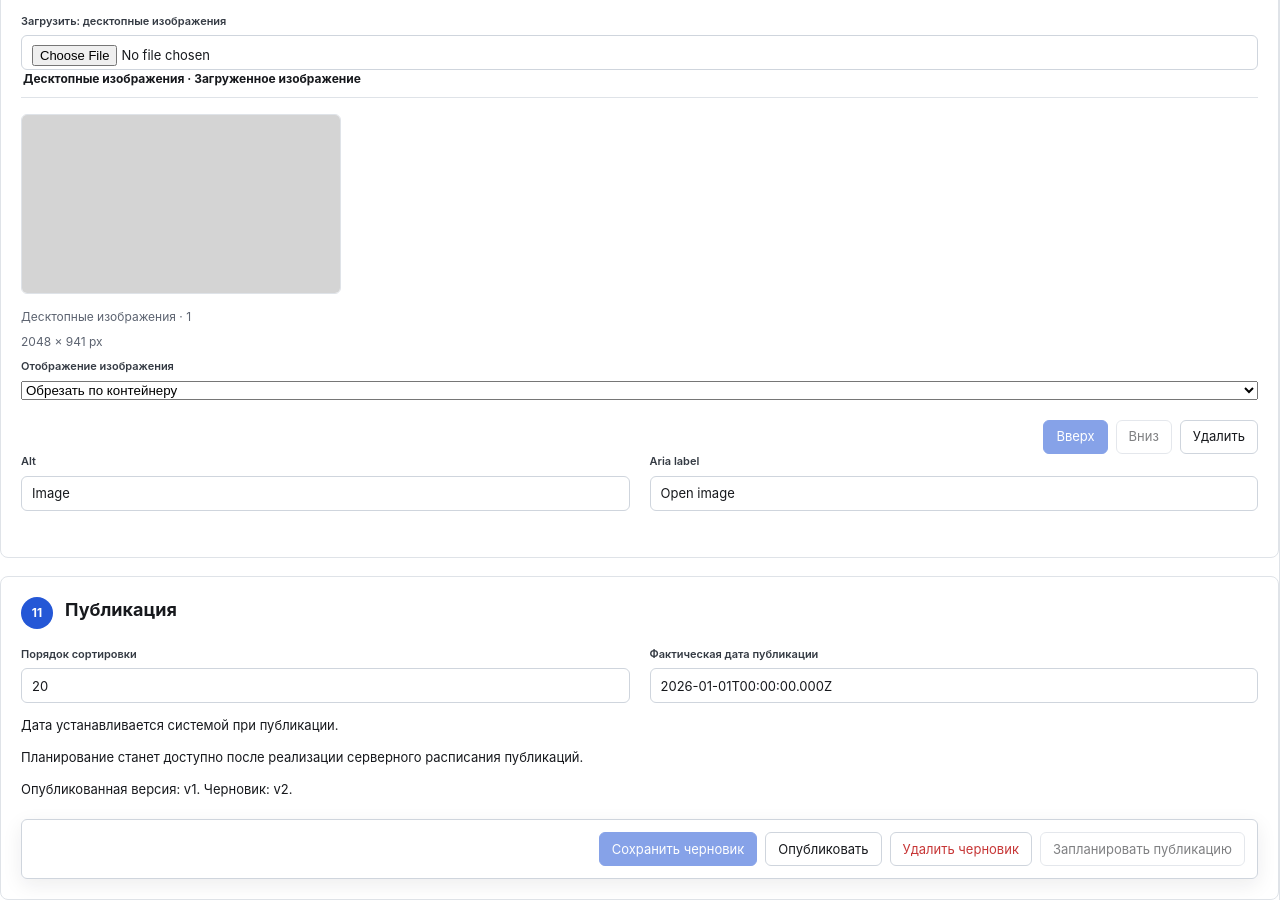
Test case: ProjectInspector media corrective QA › connects each invalid URL to its own unique accessible error
The image size is (1280, 900).
(page scrolled)
Click the button "Опубликовать" at (823, 849), box [765, 832, 882, 866]
(page scrolled)
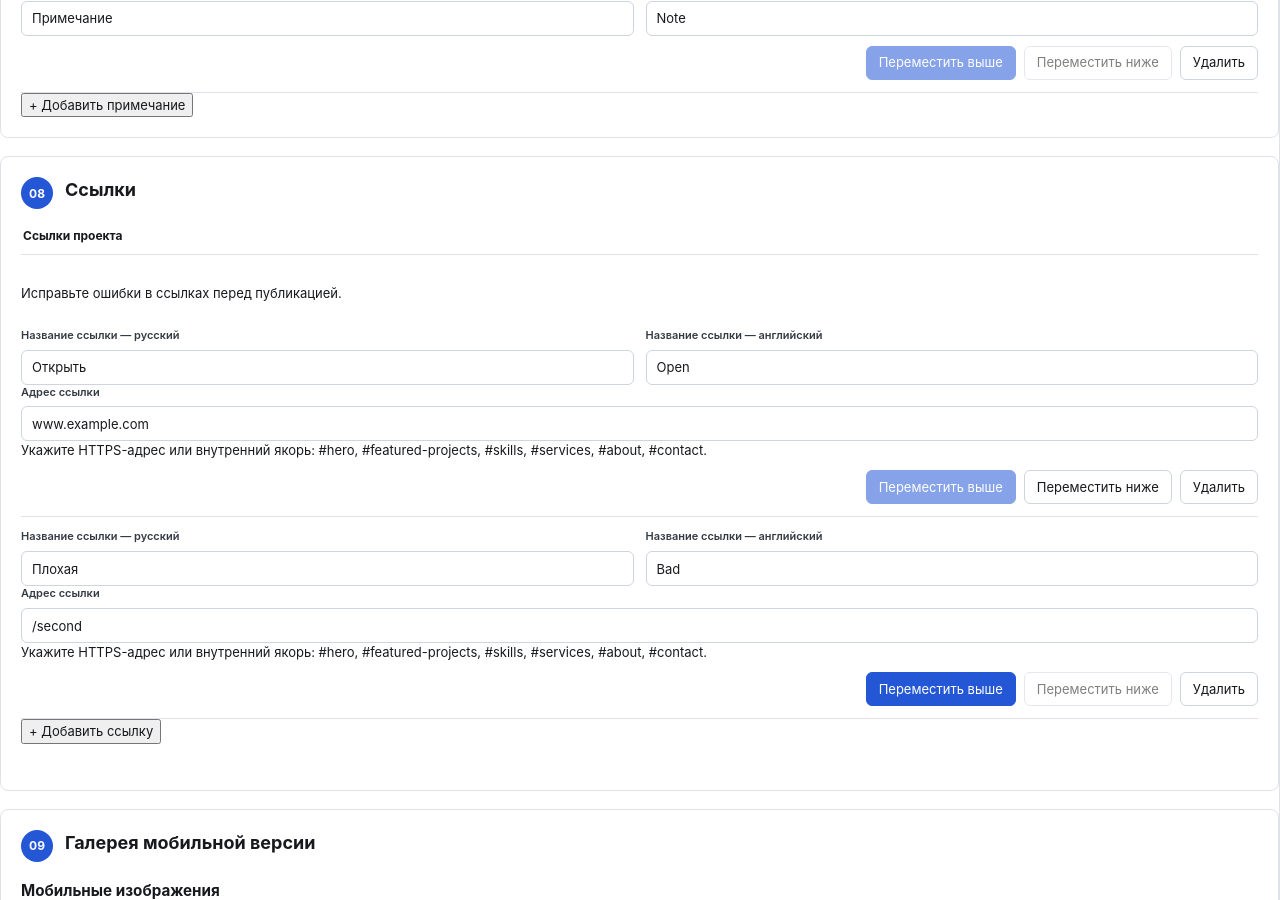
Check: the message with id "link-error-99999999-9999-4999-8999-999999999999-url" is shown, box [21, 442, 707, 458]
